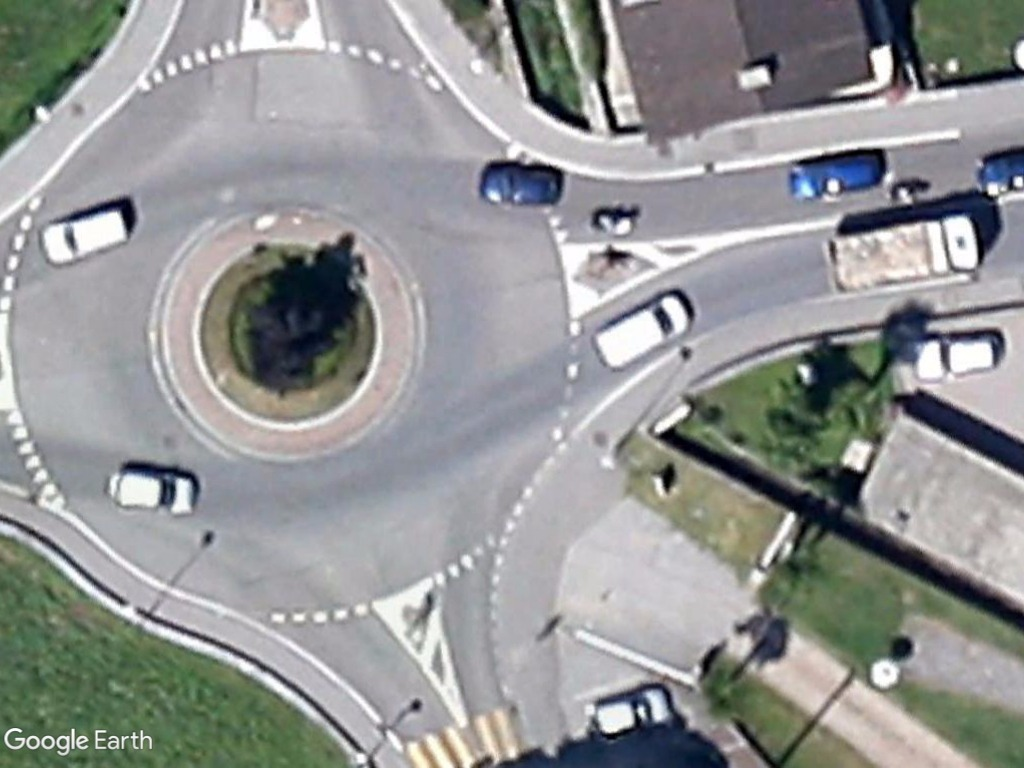car: (38, 206, 133, 266), (584, 684, 678, 743), (98, 465, 202, 518), (910, 331, 1011, 382), (478, 159, 568, 210)
others: (820, 211, 986, 296)
van: (591, 289, 697, 373)
